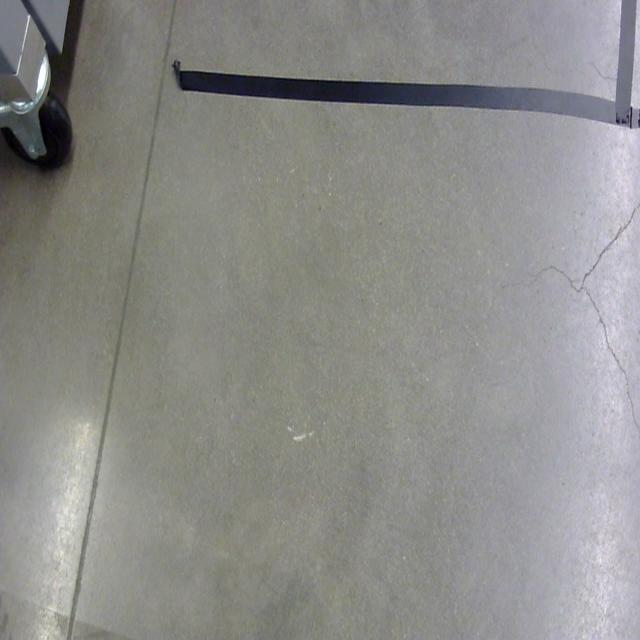tape: (172, 0, 637, 134)
